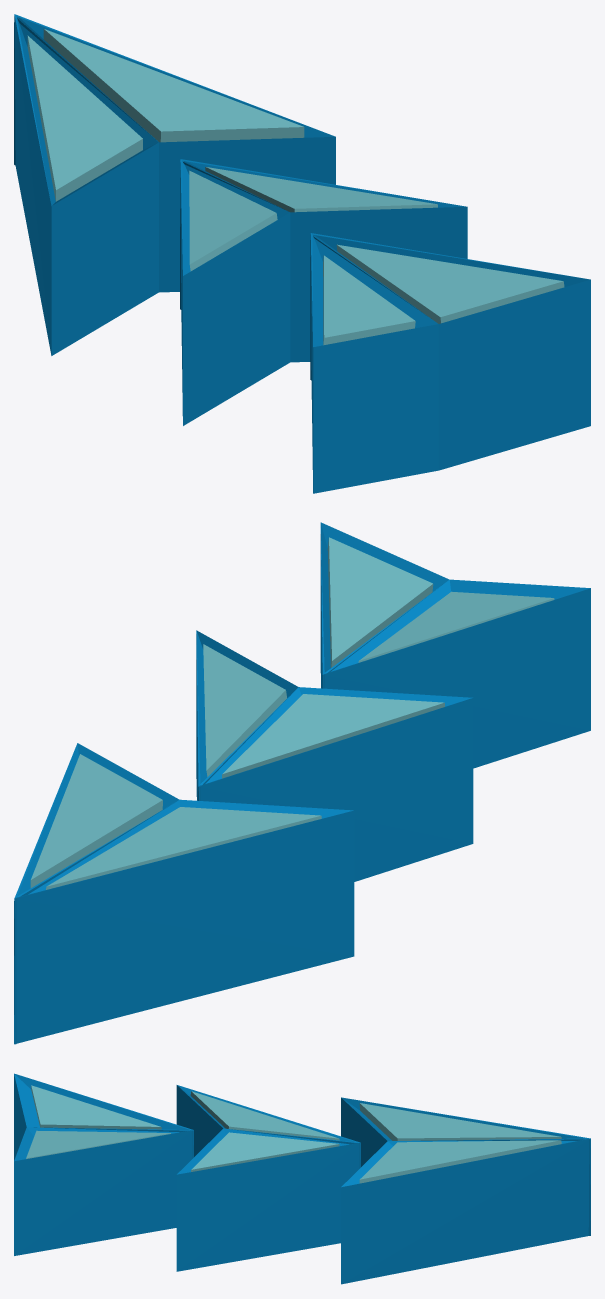
3 views of the same model, one above another, from view 1: azimuth 30°, elevation 25°; view 2: azimuth 150°, elevation 25°; view 3: azimuth 270°, elevation 25° (orthographic). The views are drawn at different scales.
Parts seen in each view (by area): view 1: node_MeshObject200290304-PolyPaper21; view 2: node_MeshObject200290304-PolyPaper21; view 3: node_MeshObject200290304-PolyPaper21.
Boxes of the visible parts, bbox=[...] form: node_MeshObject200290304-PolyPaper21: bbox=[14, 14, 590, 493]; node_MeshObject200290304-PolyPaper21: bbox=[14, 522, 590, 1044]; node_MeshObject200290304-PolyPaper21: bbox=[14, 1073, 590, 1284].
Bounding box in the file's own units: 1.25 × 0.7911 × 3.34.
